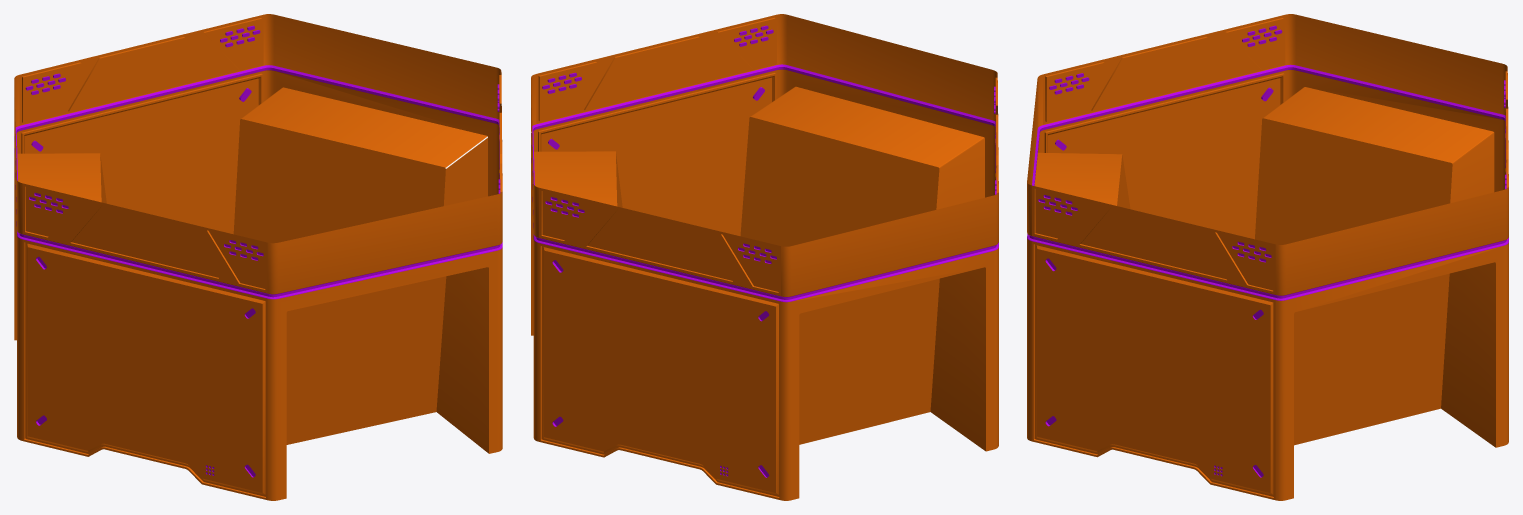
Rendered from PT_High_EXP.FBX.
The picture shows the model from 3 angles, left to right: view 1: azimuth 30°, elevation 25°; view 2: azimuth 150°, elevation 25°; view 3: azimuth 270°, elevation 25°; orthographic projection.
Visible parts, largest first — view 1: Pillar_Table_High; view 2: Pillar_Table_High; view 3: Pillar_Table_High.
Boxes of the visible parts, left/top/right/bottom form: Pillar_Table_High: left=14, top=14, right=502, bottom=500; Pillar_Table_High: left=531, top=14, right=998, bottom=500; Pillar_Table_High: left=1027, top=14, right=1508, bottom=500.
Size of the model in its own units: 57.34 by 29.71 by 50.55.
